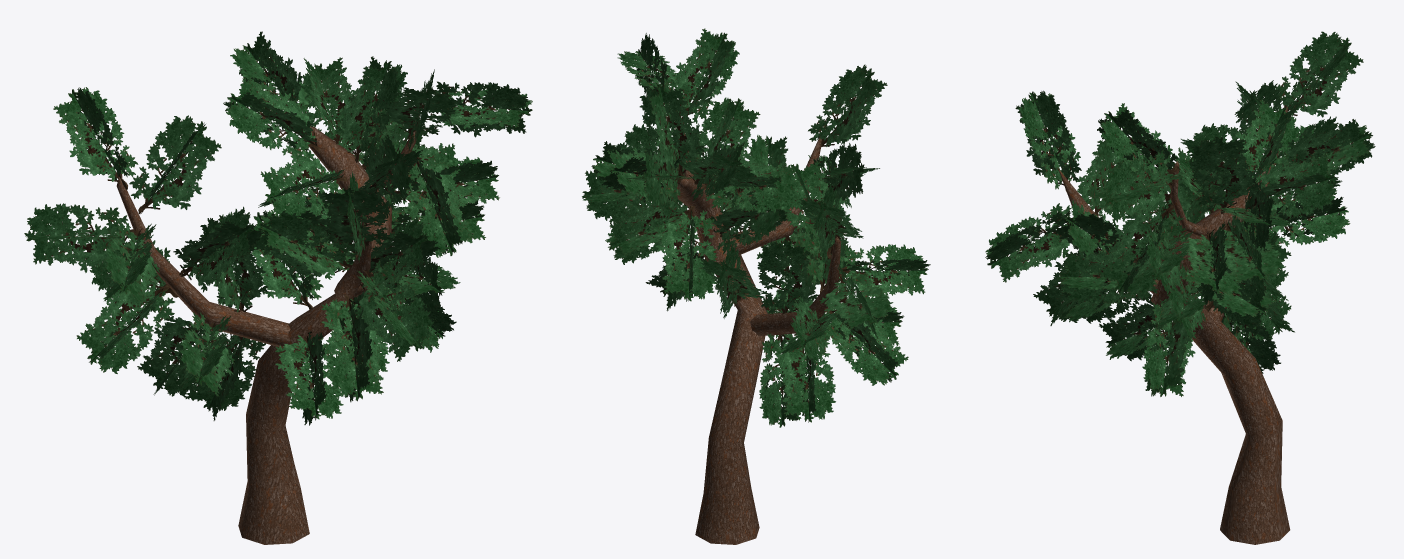
The model's file is TerrainTree1.fbx.
The picture shows the model from 3 angles, left to right: view 1: azimuth 30°, elevation 25°; view 2: azimuth 150°, elevation 25°; view 3: azimuth 270°, elevation 25°; orthographic projection. The views are drawn at different scales.
Visible parts, largest first — view 1: Tree5; view 2: Tree5; view 3: Tree5.
Part boxes in pixels (x1,y1,x2,y2): Tree5: (24, 31, 532, 544); Tree5: (582, 28, 930, 544); Tree5: (985, 31, 1375, 544).
Bounding box in the file's own units: 499 × 551 × 436.
